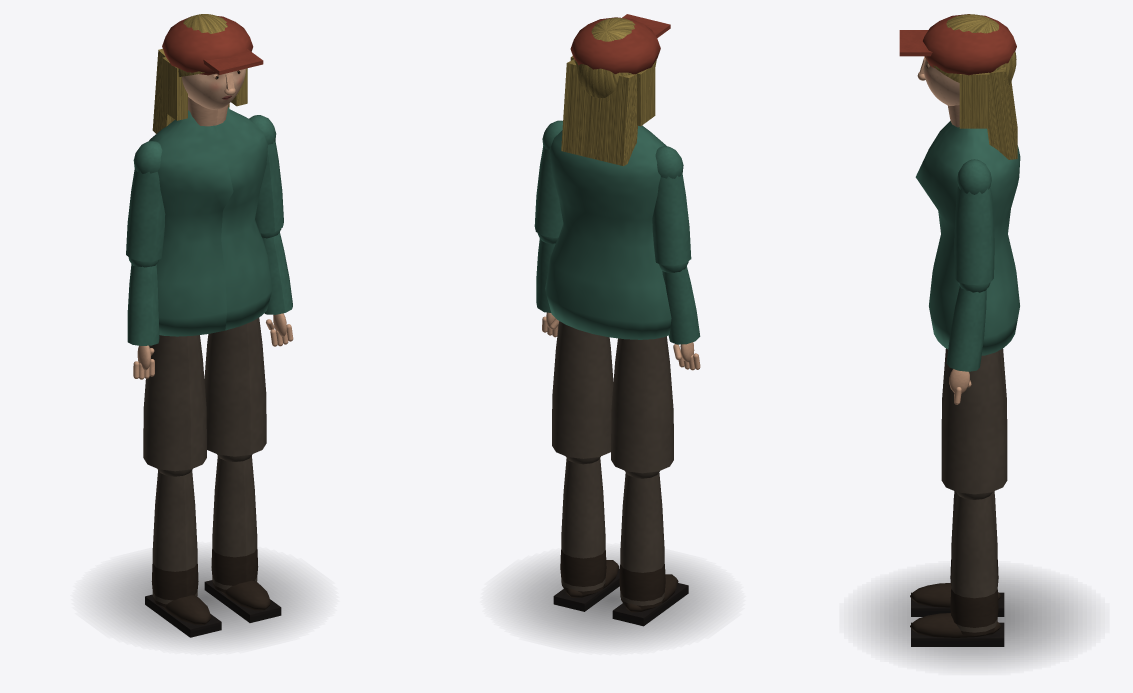
File: npc_settler_f.glb
3 views of the same model, side by side, from view 1: azimuth 30°, elevation 25°; view 2: azimuth 150°, elevation 25°; view 3: azimuth 270°, elevation 25° (orthographic). The views are drawn at different scales.
Parts seen in each view (by area): view 1: chest, object 11, head, legL, legR, shinR, shinL, armL, foreL, foreR, armR; view 2: chest, head, object 11, legL, legR, shinL, shinR, armL, foreL, armR, foreR; view 3: chest, head, object 11, shinR, legR, armR, foreR, shinL, legL.
Part boxes in pixels (<box>): chest: <box>149,97,272,336</box>; object 11: <box>98,553,311,643</box>; head: <box>152,14,263,133</box>; legL: <box>143,335,206,471</box>; legR: <box>204,317,266,456</box>; shinR: <box>204,454,281,622</box>; shinL: <box>145,469,221,637</box>; armL: <box>126,141,165,261</box>; foreL: <box>127,257,159,379</box>; foreR: <box>260,228,293,346</box>; armR: <box>249,115,283,233</box>; chest: <box>545,125,671,339</box>; head: <box>561,14,670,166</box>; object 11: <box>507,554,718,643</box>; legL: <box>611,336,673,473</box>; legR: <box>552,321,613,458</box>; shinL: <box>612,471,688,626</box>; shinR: <box>553,456,619,611</box>; armL: <box>652,146,691,265</box>; foreL: <box>659,261,700,370</box>; armR: <box>534,120,563,237</box>; foreR: <box>536,233,559,337</box>; chest: <box>915,105,1020,355</box>; head: <box>899,14,1017,159</box>; object 11: <box>866,573,1082,663</box>; shinR: <box>910,492,1004,646</box>; legR: <box>941,350,1007,494</box>; armR: <box>954,159,994,284</box>; foreR: <box>946,282,990,404</box>; shinL: <box>910,491,1004,616</box>; legL: <box>941,348,1007,448</box>.
Bounding box in the file's own units: 0.77 × 1.79 × 0.77.
Materials: 6 (5 with a texture image).
